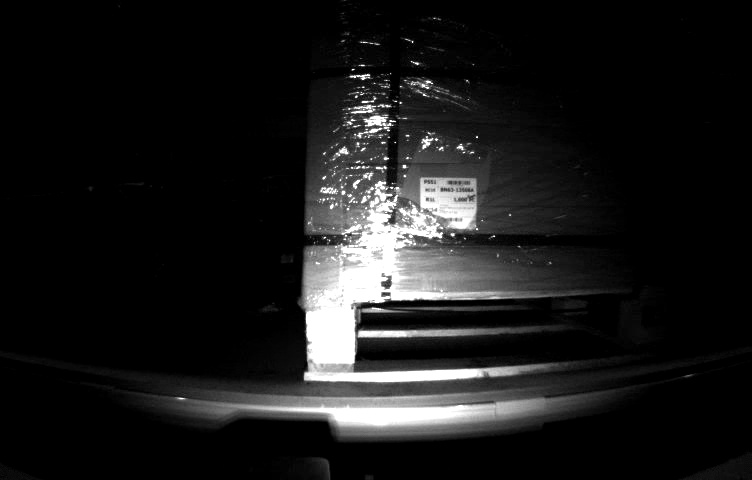True Barcode: (419, 175, 481, 236)
